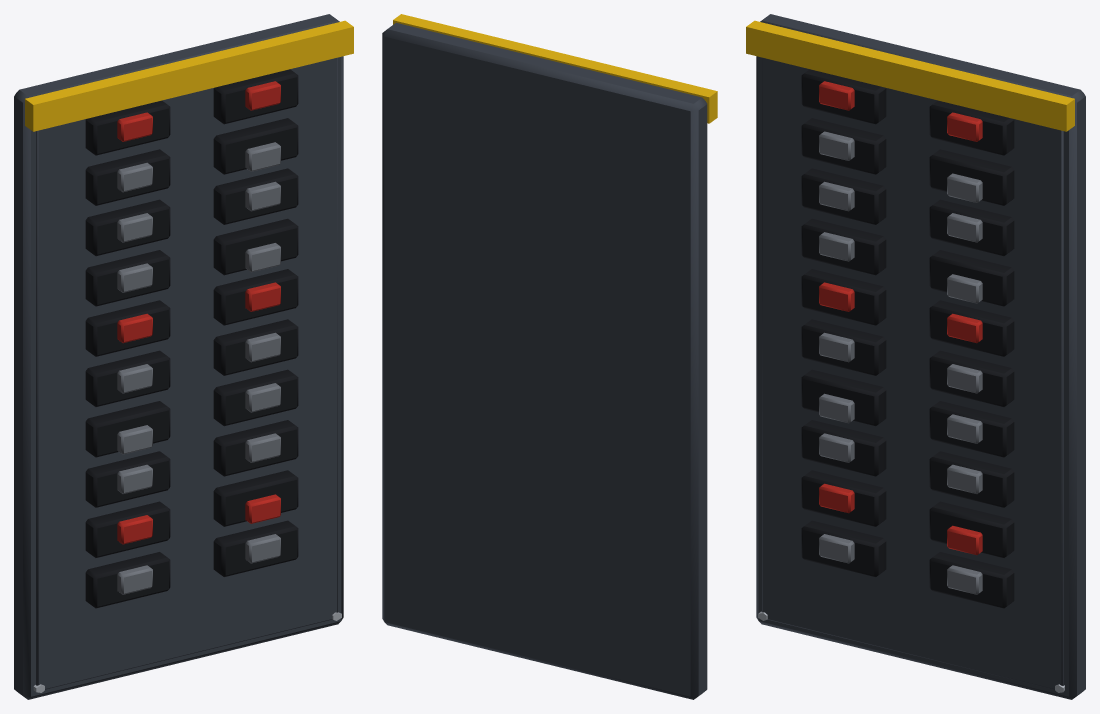
Rendered from controlpanel_breaker_bank.glb.
The picture shows the model from 3 angles, left to right: view 1: azimuth 30°, elevation 25°; view 2: azimuth 150°, elevation 25°; view 3: azimuth 330°, elevation 25°; orthographic projection.
Visible parts, largest first — view 1: controlpanel_breaker_bank; view 2: controlpanel_breaker_bank; view 3: controlpanel_breaker_bank.
Part boxes in pixels (box(x1,y1,x2,y2)): controlpanel_breaker_bank: box(14, 14, 353, 699); controlpanel_breaker_bank: box(382, 14, 717, 699); controlpanel_breaker_bank: box(746, 14, 1085, 699).
Bounding box in the file's own units: 0.5 × 0.9 × 0.083.
